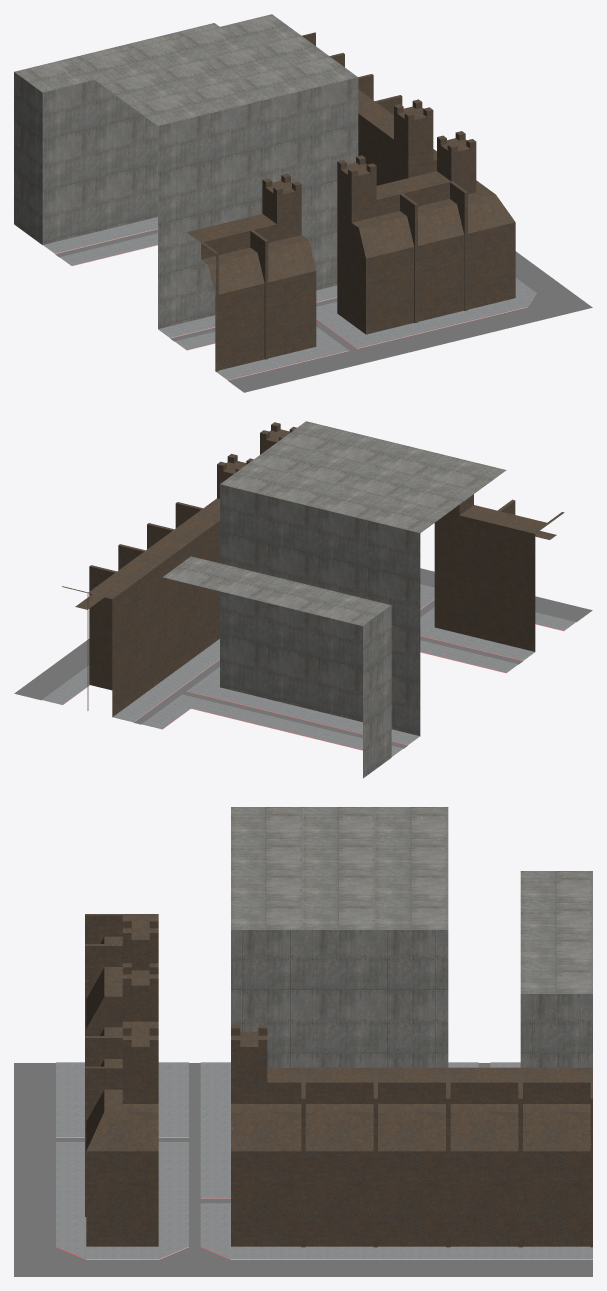
Rendered from Section5.gltf.
The picture shows the model from 3 angles, top to bottom: view 1: azimuth 30°, elevation 25°; view 2: azimuth 150°, elevation 25°; view 3: azimuth 270°, elevation 25°; orthographic projection. The views are drawn at different scales.
Parts seen in each view (by area): view 1: Section5; view 2: Section5; view 3: Section5.
Boxes of the visible parts, x1,y1,x2,y2 form: Section5: (14,14,592,392); Section5: (14,421,592,778); Section5: (14,807,592,1276).
Size of what is drawn, in the model's own units: 112 by 62.4 by 128.
5 materials, 3 textured.
